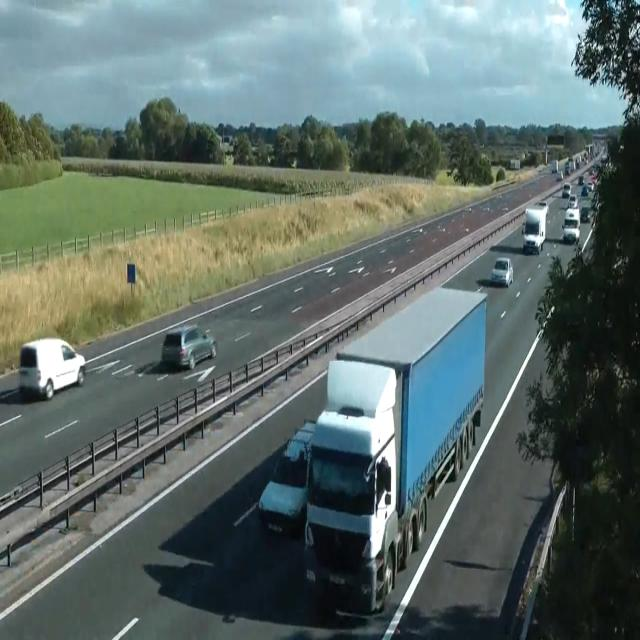bus: (281, 418, 316, 474), (491, 257, 513, 287), (580, 205, 591, 222), (481, 205, 493, 212), (580, 185, 588, 195), (556, 172, 563, 182), (564, 164, 570, 175), (578, 175, 584, 185)
jeep: (258, 418, 316, 534), (18, 336, 86, 399), (161, 322, 217, 370), (562, 207, 580, 243), (562, 182, 570, 198)
minibus: (303, 286, 487, 614), (521, 200, 549, 255), (510, 158, 520, 170), (550, 159, 558, 173)
